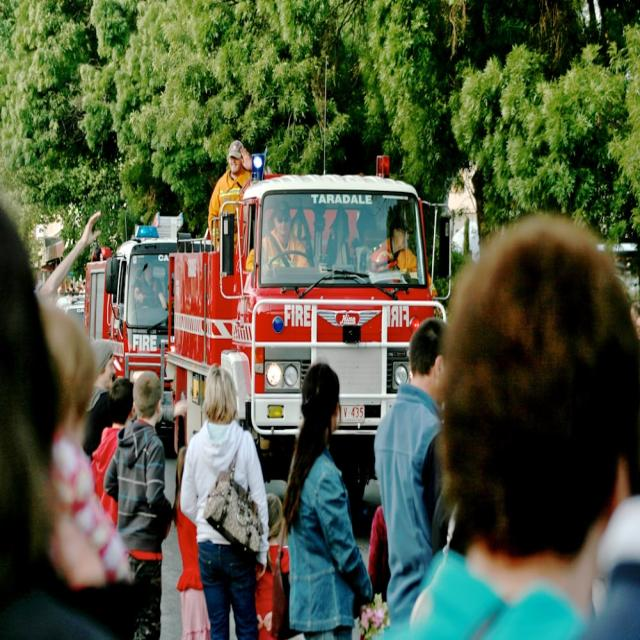emergency: (168, 169, 445, 499), (85, 215, 184, 404)
